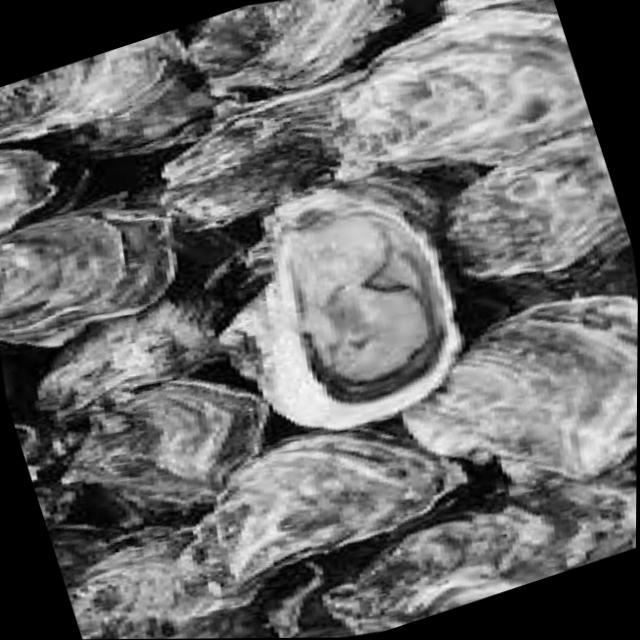Oyster-Closed: (10, 302, 226, 425), (186, 0, 445, 101), (158, 101, 340, 227)
Oyster-Indeterminate: (323, 454, 637, 634), (199, 419, 471, 590), (402, 296, 638, 481), (334, 5, 594, 167), (447, 123, 633, 315), (66, 382, 275, 523), (0, 212, 177, 348), (84, 519, 258, 639), (0, 33, 171, 141), (0, 149, 61, 237)
Oyster-Open: (237, 179, 465, 433)
